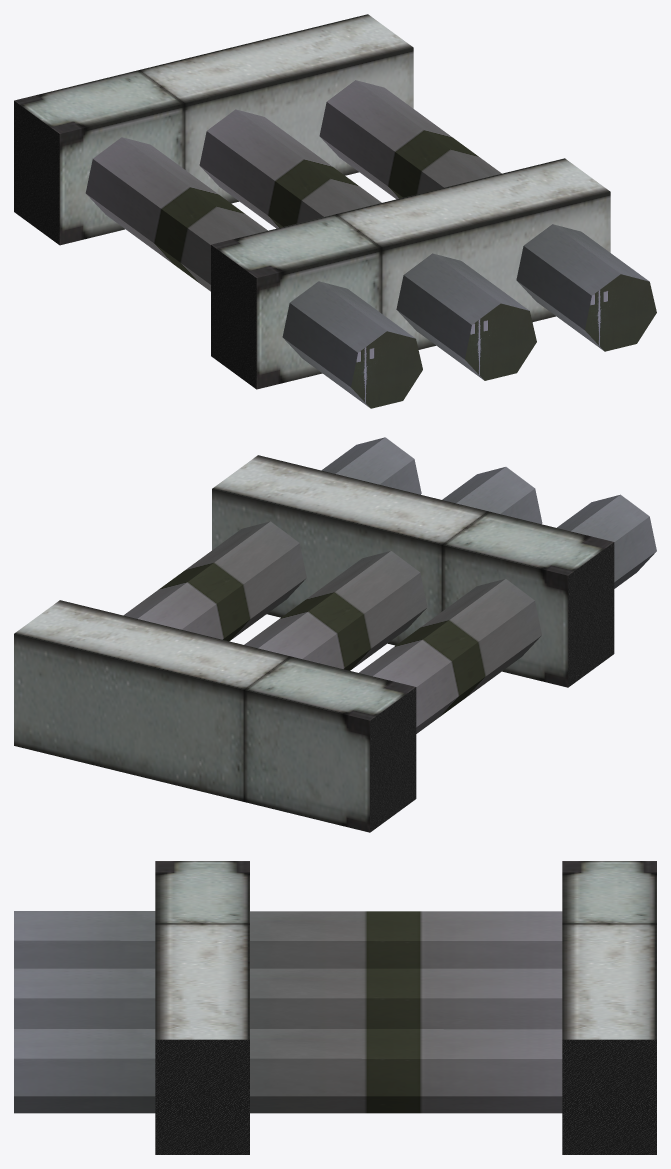
The model's file is Pipe_01.fbx.
3 renders of one model, top to bottom at view 1: azimuth 30°, elevation 25°; view 2: azimuth 150°, elevation 25°; view 3: azimuth 270°, elevation 25°, orthographic. The views are drawn at different scales.
Parts seen in each view (by area): view 1: Pipe_01; view 2: Pipe_01; view 3: Pipe_01.
Part boxes in pixels (x1,y1,x2,y2): Pipe_01: (14, 14, 656, 408); Pipe_01: (14, 437, 656, 832); Pipe_01: (14, 861, 656, 1154).
Size of the model in its own units: 16.86 by 5.07 by 25.66.
